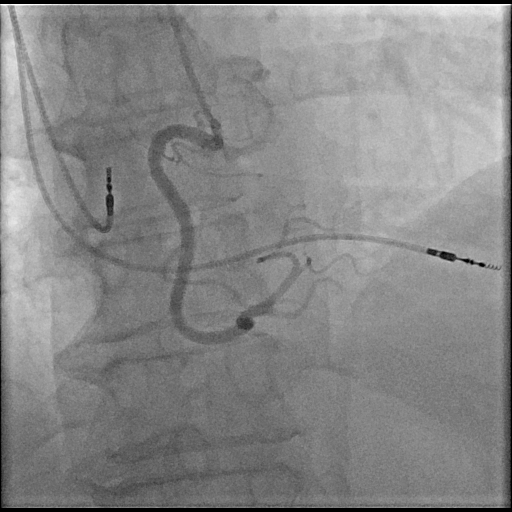RCA: (150, 124, 303, 343)
catherter: (167, 7, 222, 135)
